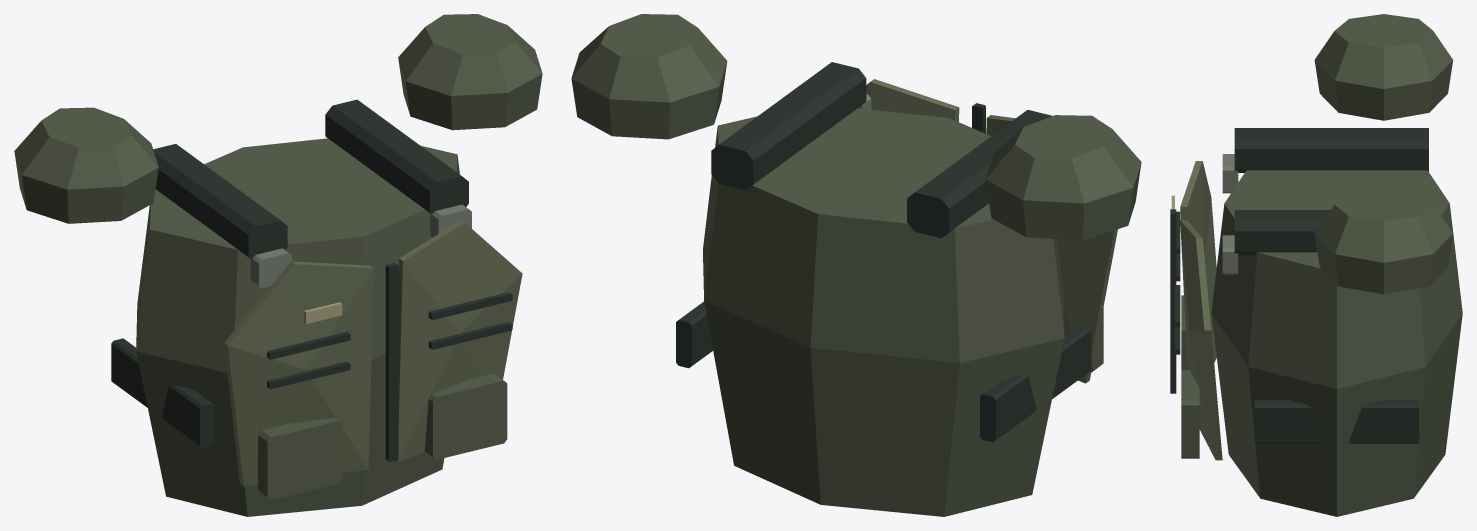
File: FlakJacket.gltf
3 views of the same model, side by side, from view 1: azimuth 30°, elevation 25°; view 2: azimuth 150°, elevation 25°; view 3: azimuth 270°, elevation 25° (orthographic). The views are drawn at different scales.
Parts seen in each view (by area): view 1: Chest, ShoulderLeft, ShoulderRight; view 2: Chest, ShoulderRight, ShoulderLeft; view 3: Chest, ShoulderRight, ShoulderLeft.
Boxes of the visible parts, box(x1,y1,x2,y2) form: Chest: box(111, 99, 522, 516); ShoulderLeft: box(398, 14, 542, 130); ShoulderRight: box(14, 107, 158, 223); Chest: box(676, 62, 1117, 516); ShoulderRight: box(985, 115, 1141, 240); ShoulderLeft: box(571, 14, 727, 139); Chest: box(1170, 128, 1462, 516); ShoulderRight: box(1314, 14, 1452, 120); ShoulderLeft: box(1314, 187, 1453, 294).
Size of the model in its own units: 0.634 by 0.429 by 0.3375.
